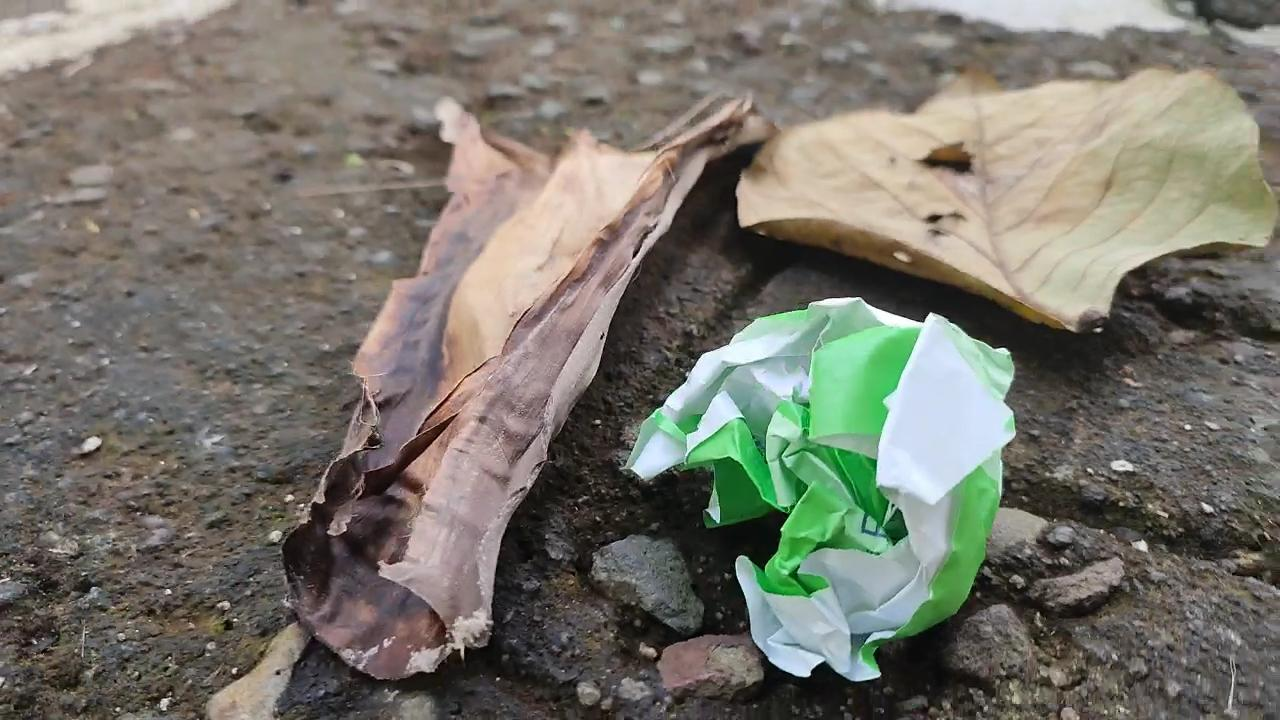Paper: (608, 285, 1022, 712)
